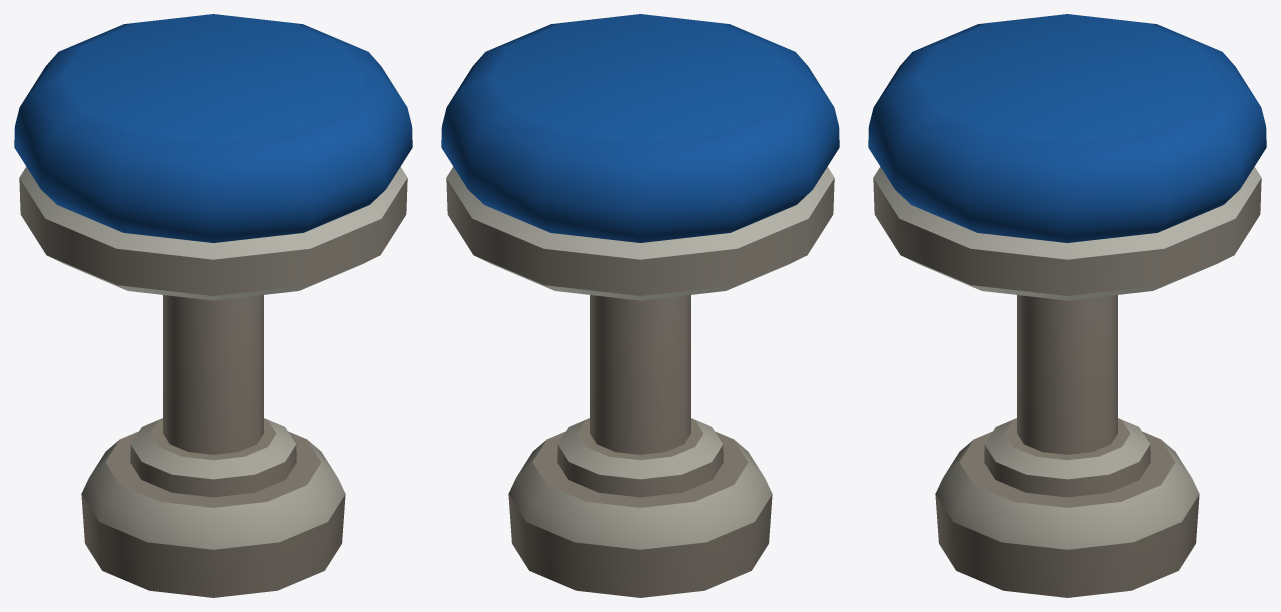
File: Stool_3B_C.glb
The picture shows the model from 3 angles, left to right: view 1: azimuth 30°, elevation 25°; view 2: azimuth 150°, elevation 25°; view 3: azimuth 270°, elevation 25°; orthographic projection.
Visible parts, largest first — view 1: Stool_3B_C; view 2: Stool_3B_C; view 3: Stool_3B_C.
Part boxes in pixels (left/top/right/bottom): Stool_3B_C: left=14, top=14, right=412, bottom=597; Stool_3B_C: left=441, top=14, right=839, bottom=597; Stool_3B_C: left=868, top=14, right=1266, bottom=597.
Bounding box in the file's own units: 0.4637 × 0.5967 × 0.4637.
Materials: 2 (2 with a texture image).
